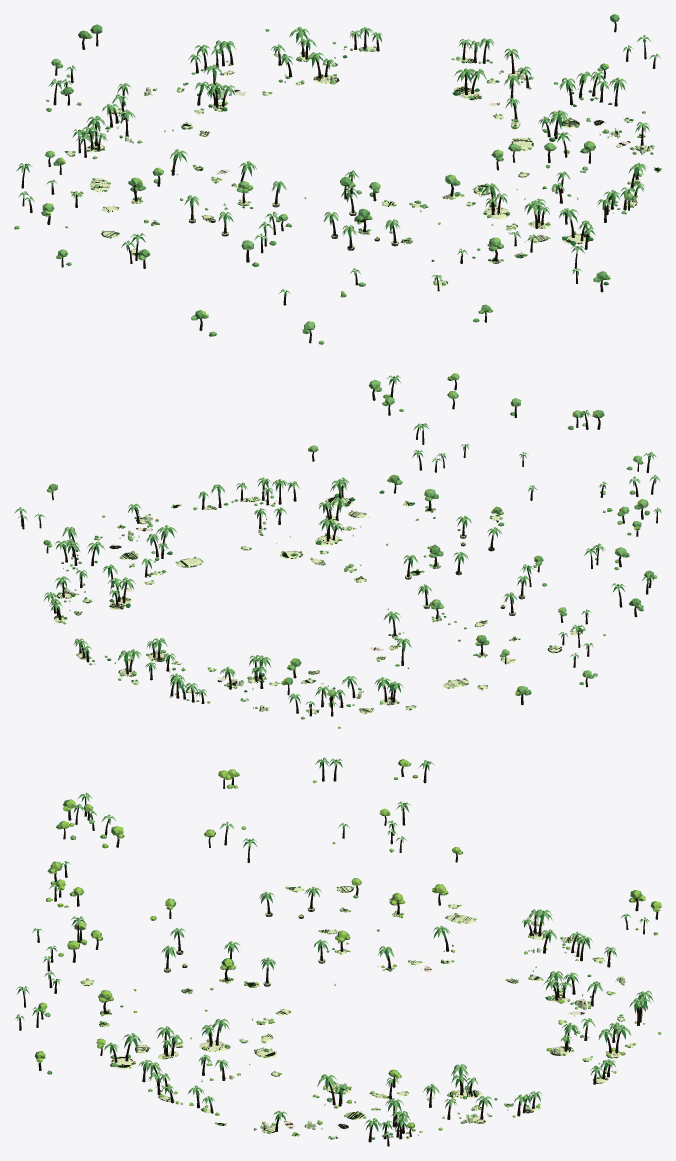
The model's file is ILHA2_10_VEGETATION_1d00de.fbx.
3 views of the same model, one above another, from view 1: azimuth 30°, elevation 25°; view 2: azimuth 150°, elevation 25°; view 3: azimuth 270°, elevation 25° (orthographic). The views are drawn at different scales.
Parts seen in each view (by area): view 1: DB_Veg_Palms__Leaf_Palm, DB_Veg_Palms__Bark, DB_Veg_Crowns__Leaf_Palm, DB_Veg_Beds__Grass_DB, DB_Veg_Crowns__Bark, DB_Veg_Beds__Grass_DB_B, DB_Veg_Crowns__Leaf_Pine_Light, DB_Veg_Shrubs__Leaf_Pine_Light, DB_Veg_Palms__Leaf_DBVegDeep_g14_10, DB_Veg_Crowns__Leaf_DBVegDeep, DB_Veg_Shrubs__Leaf_DBVegDeep, DB_Veg_Palms__Leaf_DBVegDeep_g13_9; view 2: DB_Veg_Palms__Leaf_Palm, DB_Veg_Palms__Bark, DB_Veg_Beds__Grass_DB, DB_Veg_Crowns__Leaf_Palm, DB_Veg_Beds__Grass_DB_B, DB_Veg_Crowns__Bark, DB_Veg_Crowns__Leaf_Pine_Light, DB_Veg_Shrubs__Leaf_Pine_Light, DB_Veg_Palms__Leaf_DBVegDeep_g14_10, DB_Veg_Crowns__Leaf_DBVegLime, DB_Veg_Crowns__Leaf_DBVegDeep, DB_Veg_Shrubs__Leaf_DBVegDeep; view 3: DB_Veg_Palms__Leaf_Palm, DB_Veg_Palms__Bark, DB_Veg_Beds__Grass_DB, DB_Veg_Crowns__Leaf_DBVegLime, DB_Veg_Beds__Grass_DB_B, DB_Veg_Crowns__Leaf_Palm, DB_Veg_Crowns__Bark, DB_Veg_Shrubs__Leaf_DBVegLime, DB_Veg_Palms__Leaf_DBVegDeep_g14_10, DB_Veg_Shrubs__Leaf_Pine_Light, DB_Veg_Crowns__Leaf_Pine_Light, DB_Veg_Crowns__Leaf_DBVegDeep (+1 smaller).
Part boxes in pixels (x1,y1,x2,y2): DB_Veg_Palms__Leaf_Palm: (83,26,649,248); DB_Veg_Palms__Bark: (89,30,643,261); DB_Veg_Crowns__Leaf_Palm: (14,29,660,344); DB_Veg_Beds__Grass_DB: (67,46,660,284); DB_Veg_Crowns__Bark: (21,22,655,343); DB_Veg_Beds__Grass_DB_B: (66,47,661,286); DB_Veg_Crowns__Leaf_Pine_Light: (41,14,636,334); DB_Veg_Shrubs__Leaf_Pine_Light: (67,46,658,285); DB_Veg_Palms__Leaf_DBVegDeep_g14_10: (200,29,619,108); DB_Veg_Crowns__Leaf_DBVegDeep: (16,37,656,336); DB_Veg_Shrubs__Leaf_DBVegDeep: (64,54,653,282); DB_Veg_Palms__Leaf_DBVegDeep_g13_9: (184,173,565,238); DB_Veg_Palms__Leaf_Palm: (44,477,529,701); DB_Veg_Palms__Bark: (53,482,523,713); DB_Veg_Beds__Grass_DB: (55,497,583,712); DB_Veg_Crowns__Leaf_Palm: (14,373,661,728); DB_Veg_Beds__Grass_DB_B: (54,497,584,713); DB_Veg_Crowns__Bark: (21,380,658,716); DB_Veg_Crowns__Leaf_Pine_Light: (43,377,653,695); DB_Veg_Shrubs__Leaf_Pine_Light: (59,493,560,710); DB_Veg_Palms__Leaf_DBVegDeep_g14_10: (44,529,270,676); DB_Veg_Crowns__Leaf_DBVegLime: (43,373,648,727); DB_Veg_Crowns__Leaf_DBVegDeep: (18,376,661,719); DB_Veg_Shrubs__Leaf_DBVegDeep: (57,493,580,710); DB_Veg_Palms__Leaf_Palm: (99,886,651,1129); DB_Veg_Palms__Bark: (103,892,645,1142); DB_Veg_Beds__Grass_DB: (84,886,633,1138); DB_Veg_Crowns__Leaf_DBVegLime: (36,759,661,1127); DB_Veg_Beds__Grass_DB_B: (81,886,634,1139); DB_Veg_Crowns__Leaf_Palm: (16,757,661,1138); DB_Veg_Crowns__Bark: (19,762,658,1146); DB_Veg_Shrubs__Leaf_DBVegLime: (81,886,644,1138); DB_Veg_Palms__Leaf_DBVegDeep_g14_10: (369,973,607,1131); DB_Veg_Shrubs__Leaf_Pine_Light: (80,886,644,1139); DB_Veg_Crowns__Leaf_Pine_Light: (35,759,661,1128); DB_Veg_Crowns__Leaf_DBVegDeep: (15,759,657,1136).
Size of the model in its own units: 411 by 103 by 370.
Materials: 12 (6 with a texture image).
